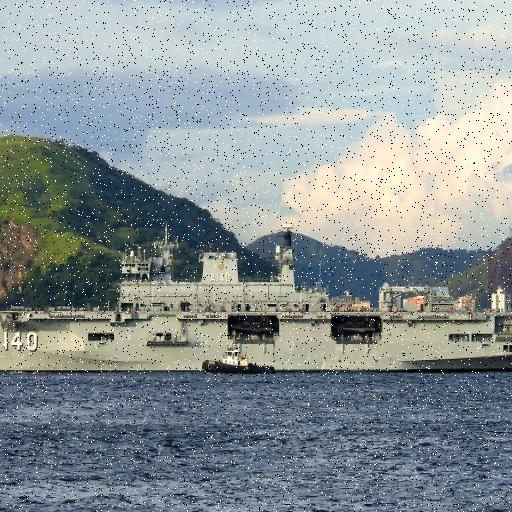Portanaves: (1, 214, 512, 379)
